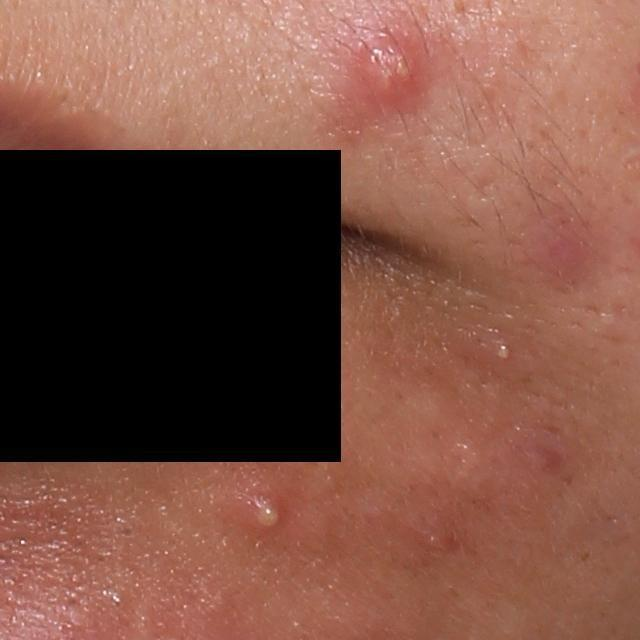comedo: (115, 520, 137, 543)
papule: (347, 29, 424, 114), (530, 211, 599, 276), (410, 513, 457, 561)
pustule: (234, 471, 300, 538), (486, 337, 516, 365)
